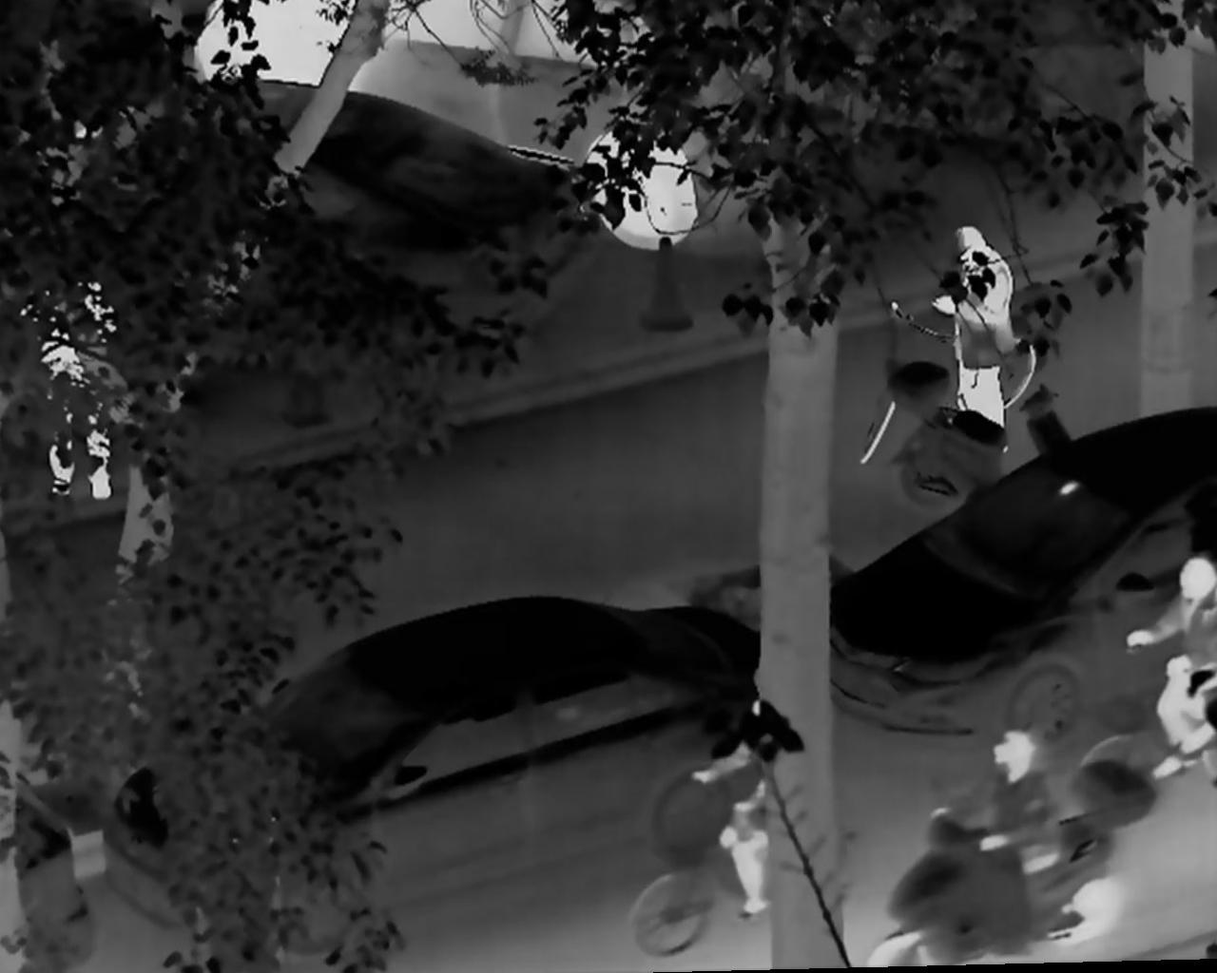person: (13, 254, 125, 510), (927, 721, 1062, 911), (1127, 547, 1217, 786), (931, 227, 1014, 464), (700, 672, 772, 928)
